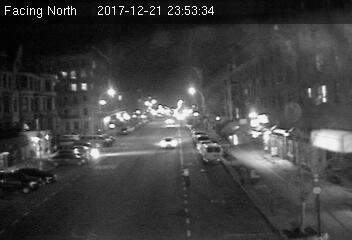car: (158, 136, 179, 150)
truck: (202, 143, 223, 164)
